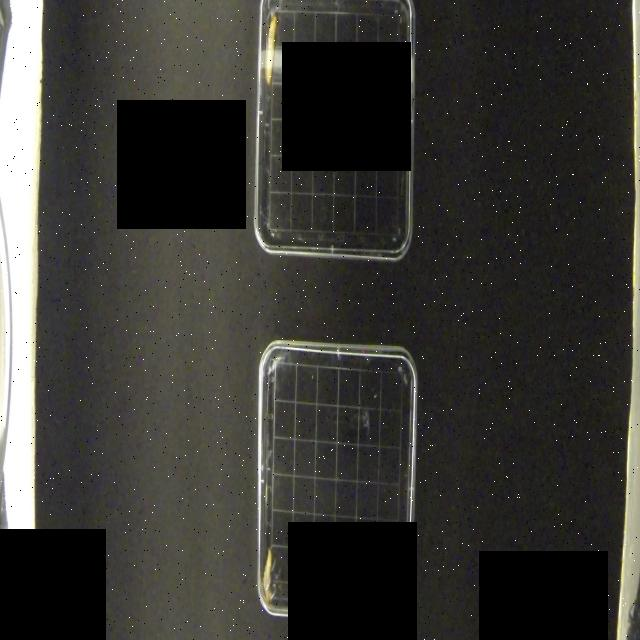larva: (265, 14, 279, 85), (264, 546, 276, 608)
